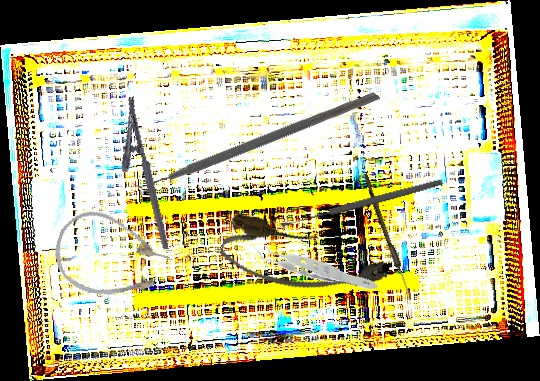Cannula: (216, 210, 393, 311), (45, 202, 177, 314)
Chopper: (121, 1, 381, 272)
Needle Holder: (106, 96, 170, 255)
Surgical Spoon: (278, 177, 445, 230), (360, 173, 415, 300)
Tissue Forceps: (248, 197, 380, 333)
